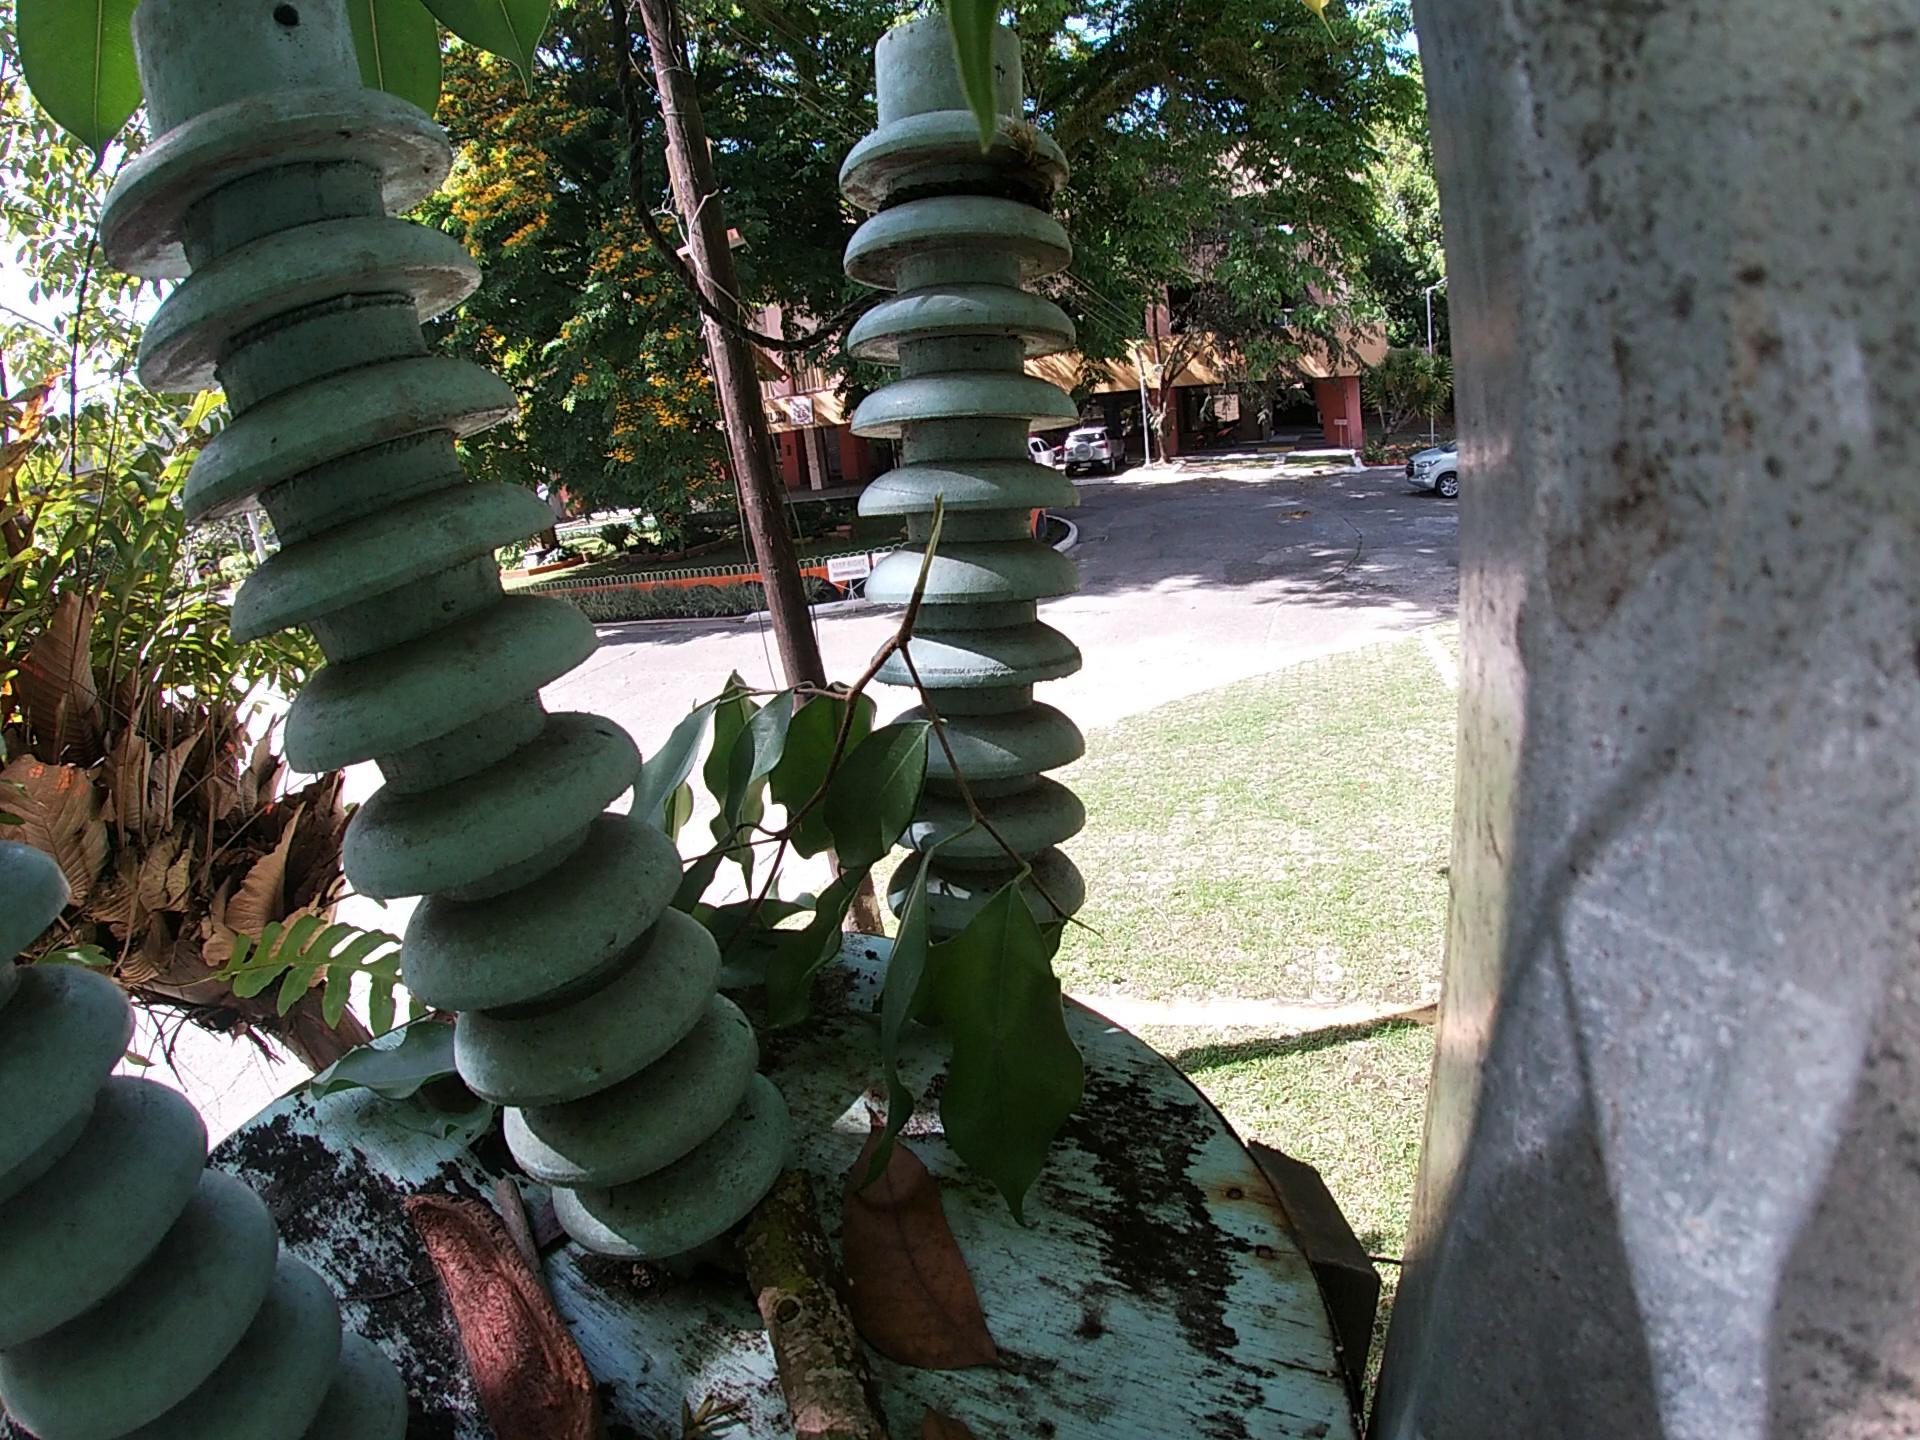branch with leaves: (627, 442, 1093, 1216)
leaf: (850, 1106, 1040, 1393), (298, 1003, 500, 1144)
mahogany fruit: (386, 1178, 599, 1435)
tree branch: (717, 1187, 875, 1440), (479, 1174, 550, 1272)
